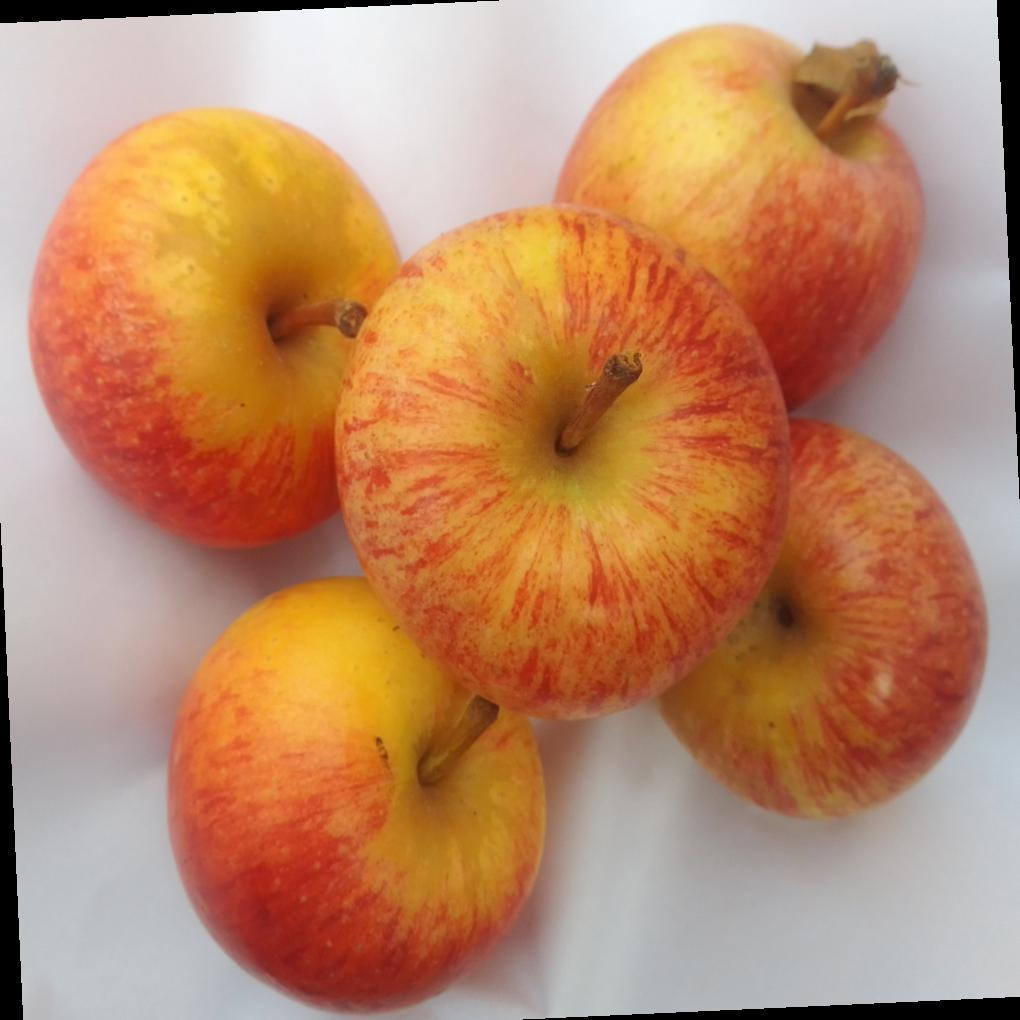FreshGuava: (25, 22, 988, 1016)
